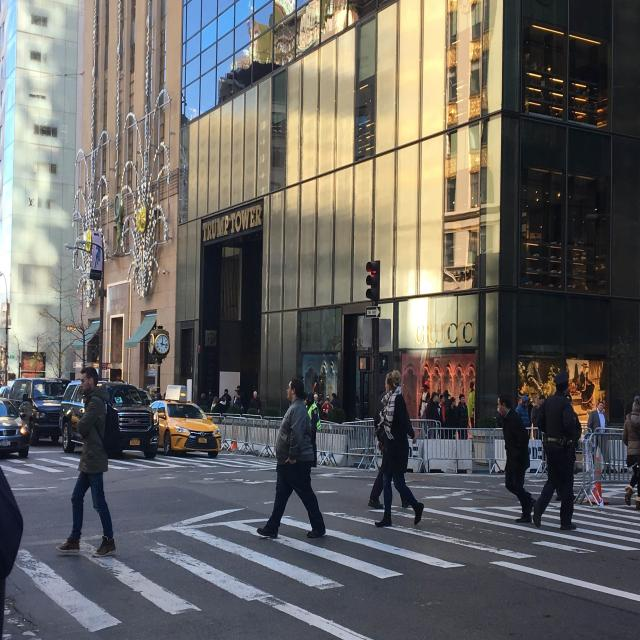body: (56, 365, 121, 559), (256, 377, 327, 539), (530, 368, 584, 533), (372, 368, 426, 532), (365, 372, 415, 512), (494, 387, 540, 527), (0, 462, 25, 640), (555, 394, 581, 502), (621, 395, 640, 510), (587, 401, 614, 476), (530, 394, 547, 468), (306, 391, 322, 468), (576, 361, 594, 414), (425, 391, 439, 440), (298, 394, 310, 449), (418, 380, 430, 434), (468, 381, 478, 441), (515, 394, 530, 432), (445, 396, 458, 439), (519, 396, 534, 427), (458, 394, 468, 440), (42, 384, 69, 400), (197, 392, 210, 417), (314, 392, 324, 423), (122, 389, 141, 405), (517, 379, 529, 404), (321, 397, 333, 421), (218, 396, 229, 420), (250, 391, 261, 415), (221, 388, 232, 411), (178, 406, 199, 418), (148, 390, 169, 402), (420, 398, 430, 419), (439, 394, 446, 424), (441, 389, 451, 410), (210, 396, 220, 416), (496, 404, 504, 428), (206, 389, 214, 411), (330, 392, 340, 408), (324, 394, 334, 409), (232, 389, 240, 406), (212, 397, 219, 409), (234, 396, 241, 407), (237, 386, 243, 396), (356, 390, 360, 405), (314, 392, 318, 404)
